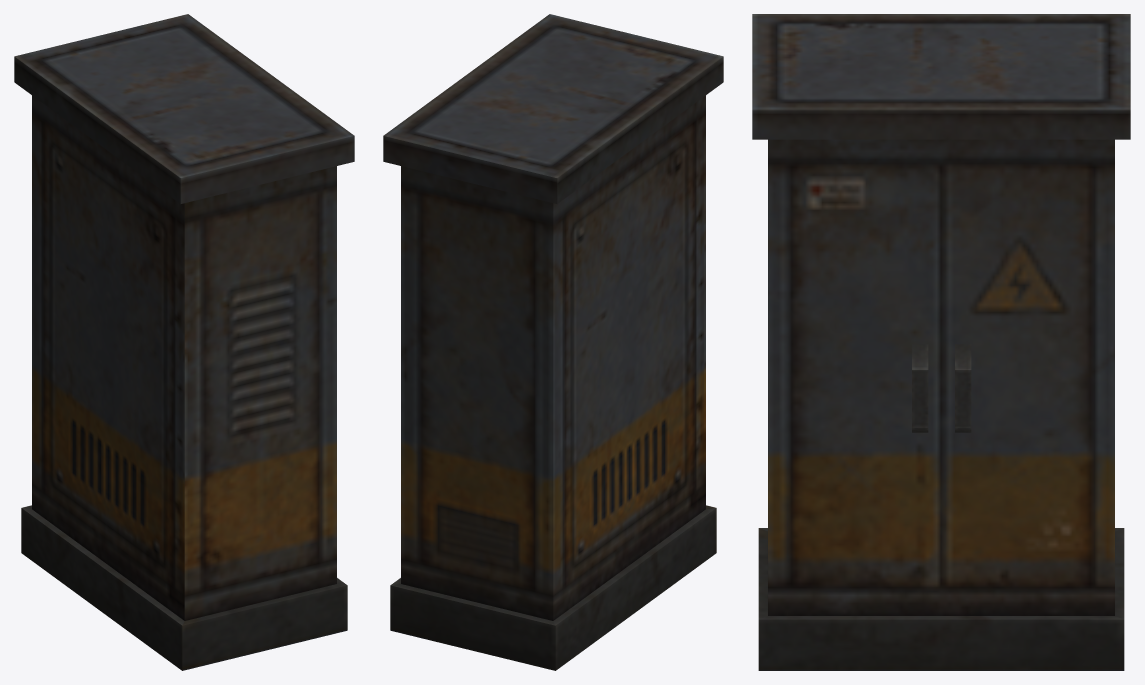
Rendered from Stage-gongchang-dianxiang.FBX.
3 views of the same model, side by side, from view 1: azimuth 30°, elevation 25°; view 2: azimuth 150°, elevation 25°; view 3: azimuth 270°, elevation 25° (orthographic). The views are drawn at different scales.
Visible parts, largest first — view 1: Box52; view 2: Box52; view 3: Box52.
Boxes of the visible parts, x1,y1,x2,y2 form: Box52: (14, 14, 354, 670); Box52: (383, 14, 723, 670); Box52: (752, 14, 1130, 670).
Size of the model in its own units: 1.5 by 2.38 by 3.91.
